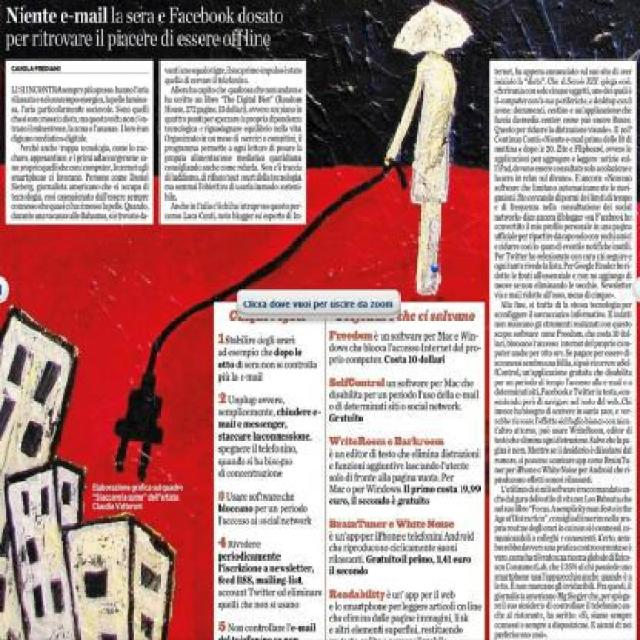Person: (396, 8, 466, 298)
